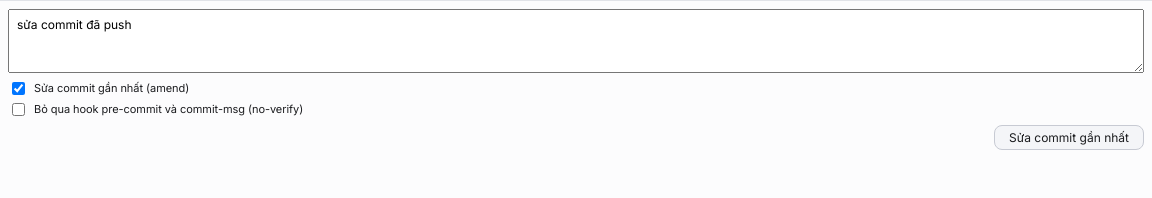
Test: 🔴 amend trên commit đã push: CẢNH BÁO, KHÔNG CHẶN (M9) › wasPushed=true → cảnh báo HIỆN
The width and height of the screenshot is (1152, 198).
Click the button with test id "commit-button" at (1069, 138), box [994,125,1144,150]
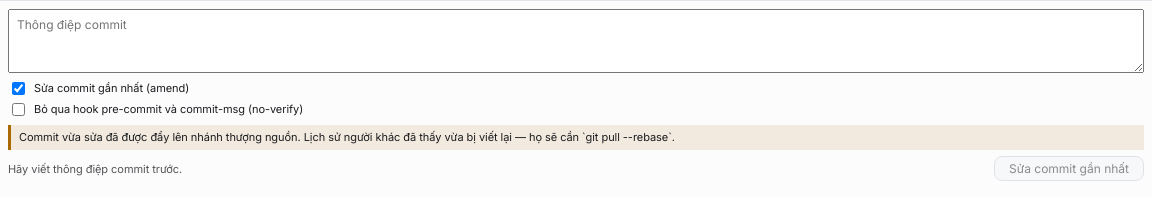
Check: the message with test id "amend-warning" is shown, box [8,125,1144,150]
